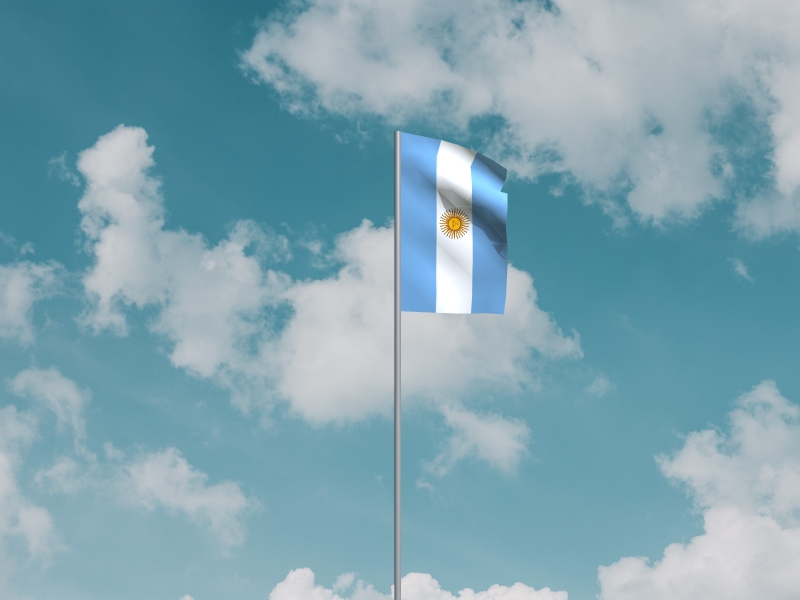ar: (401, 133, 510, 317)
